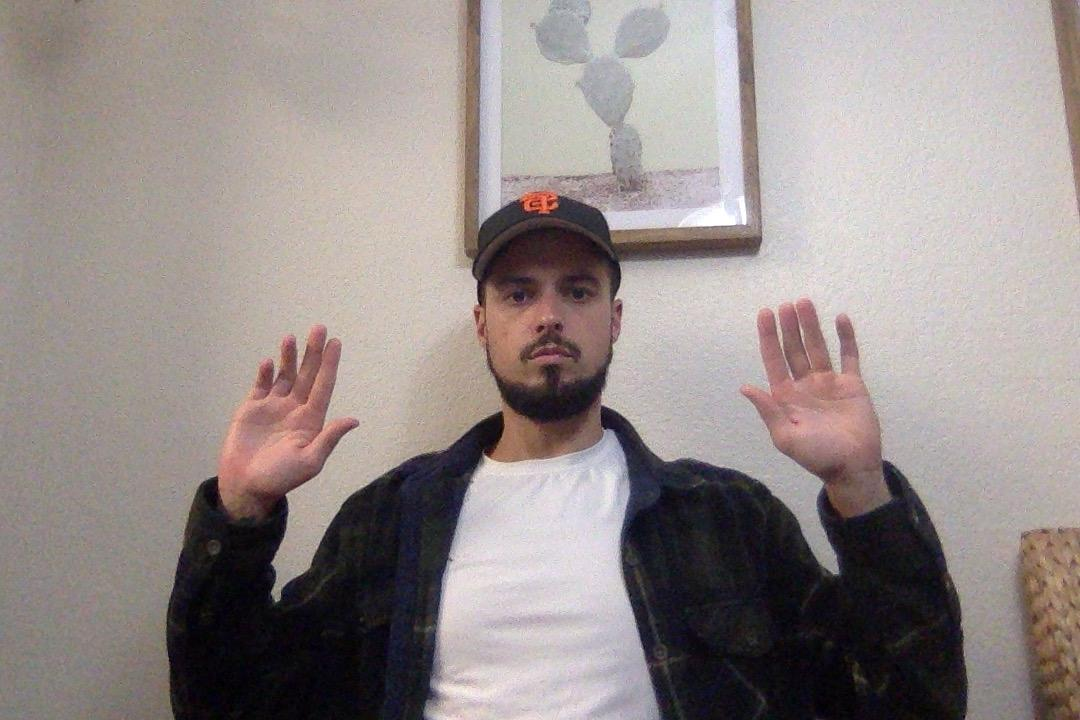Hand-Raised: (739, 287, 898, 500), (199, 322, 363, 505)
